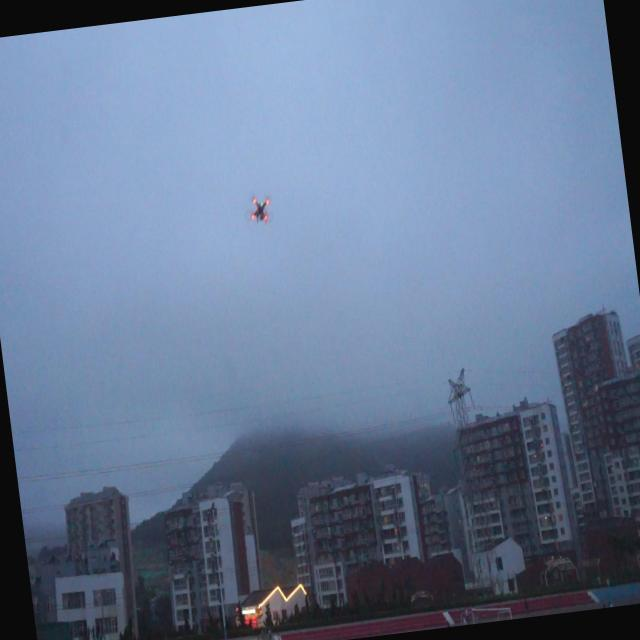drone: (242, 189, 276, 235)
